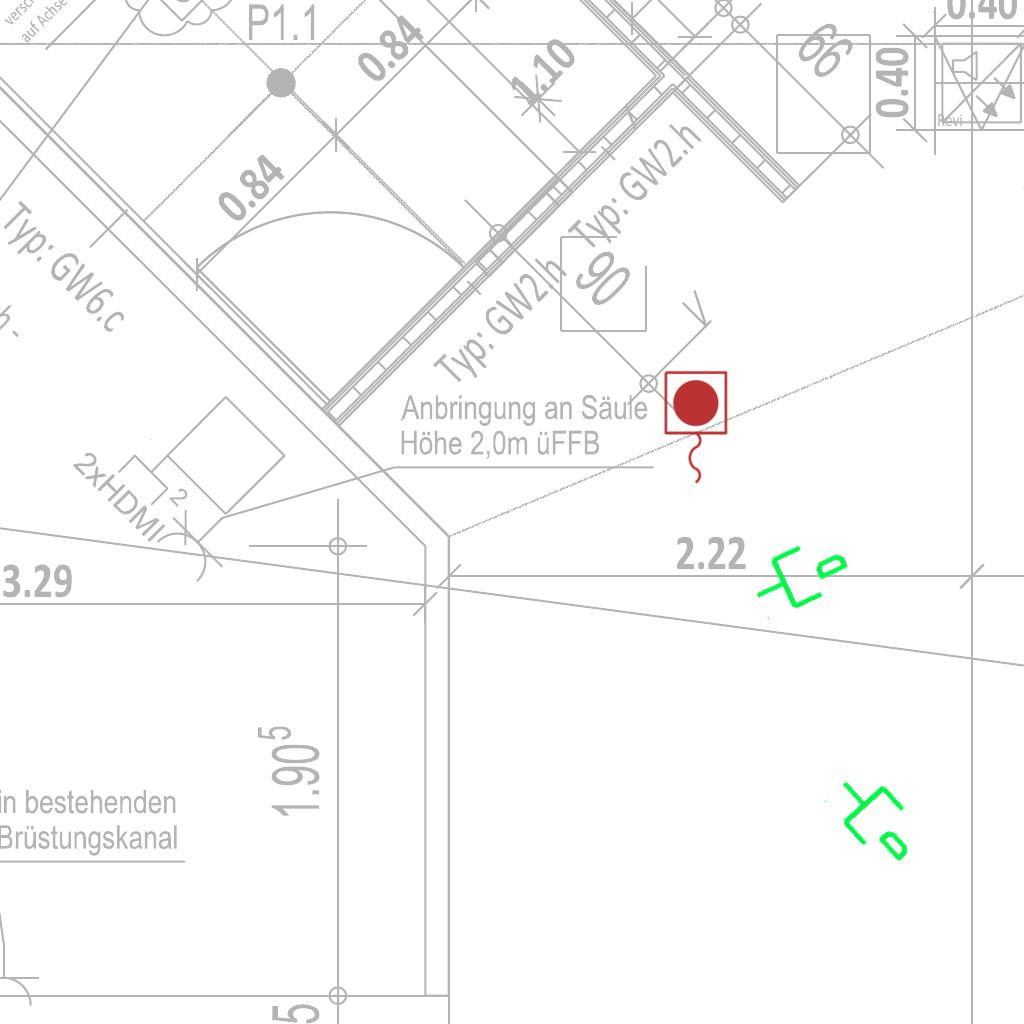Datenanschluss_einfach: (818, 756, 937, 878), (739, 521, 860, 627)
Zugtaster: (659, 367, 731, 489)
